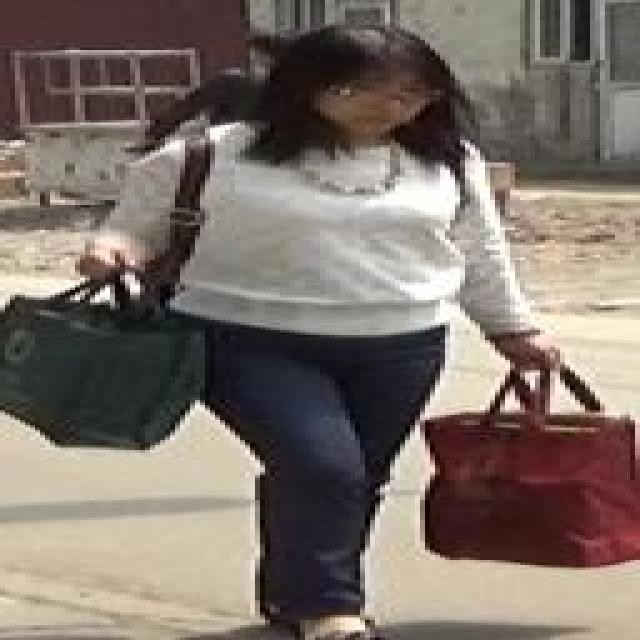adult: (108, 47, 542, 640)
